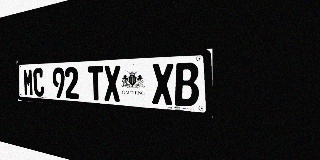2: (65, 67, 79, 99)
9: (52, 67, 65, 98)
B: (174, 62, 199, 107)
C: (33, 68, 44, 97)
M: (23, 68, 34, 96)
T: (88, 66, 104, 101)
X: (151, 63, 174, 105), (103, 65, 121, 102)
